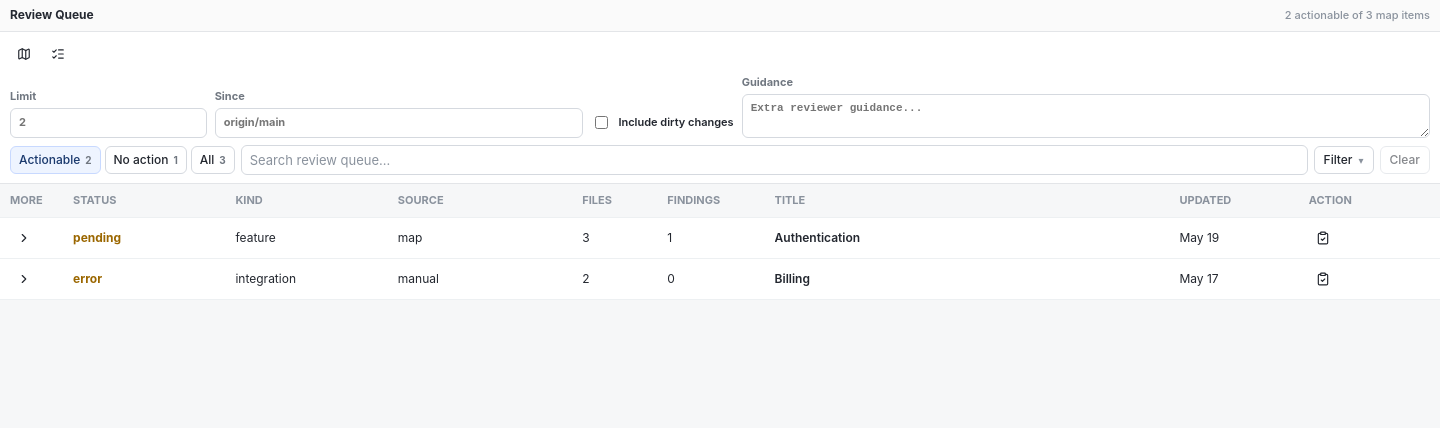
Test case: ReviewMapPanel › expands map rows with feature details and linked findings
Expected: the text "Auth request handling" is not shown
Step 1. Click the button named "Expand Authentication" → x=24, y=238, box [10, 224, 38, 252]
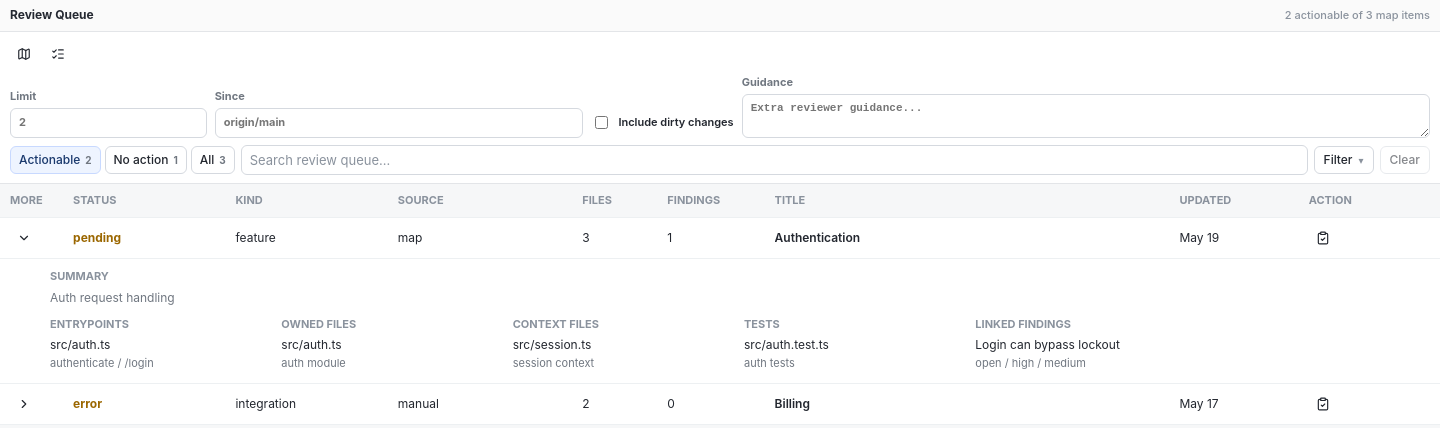
Now the button named "Collapse Authentication" is expanded
Now the text "Auth request handling" is shown, box [50, 290, 175, 306]
Now the text "src/auth.ts" is shown 2 times, box [50, 337, 110, 352]; [281, 337, 342, 352]
Step 2. Click the button named "Collapse Authentication" → x=24, y=238, box [10, 224, 38, 252]
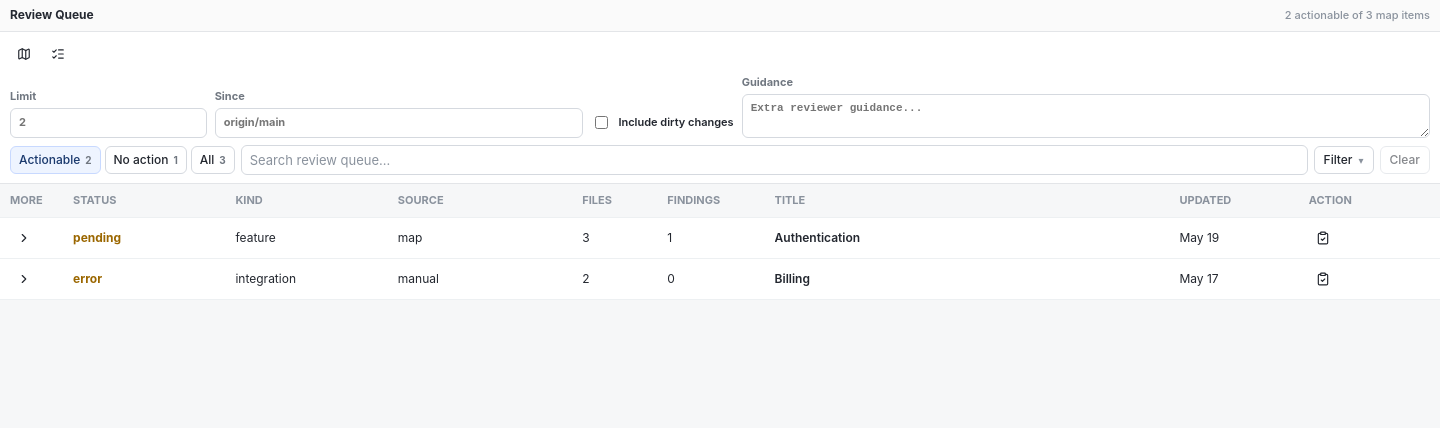
Now the text "Auth request handling" is gone
